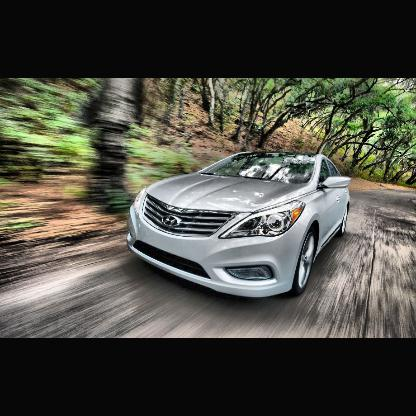Hyundai Azera Sedan 2012: (127, 150, 351, 300)
